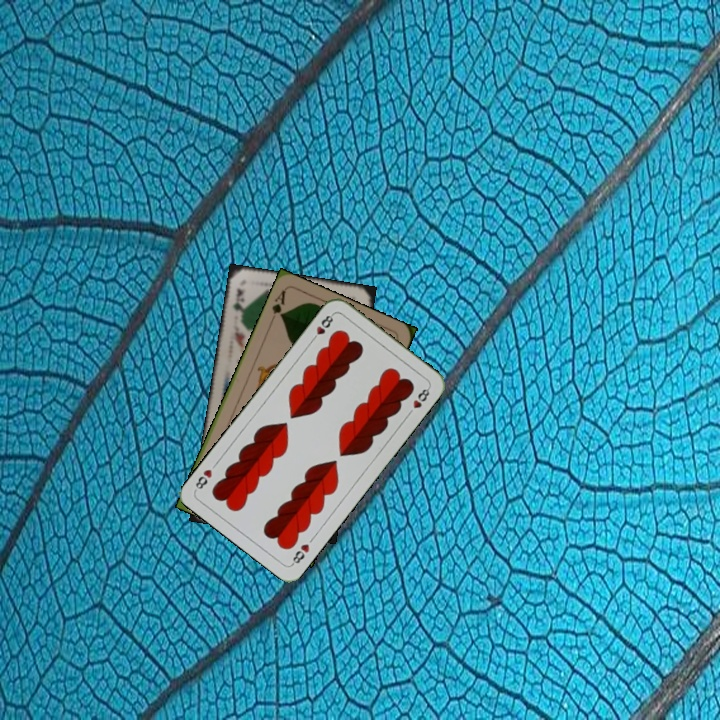GA: (266, 286, 288, 325)
GK: (228, 284, 246, 322)
H8: (307, 310, 336, 344), (287, 540, 312, 568)
